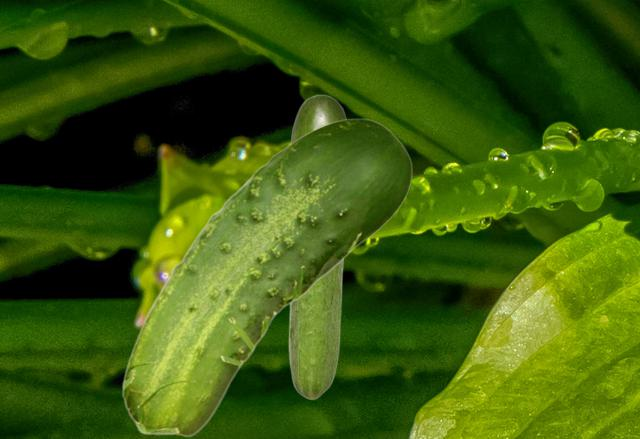cucumber: (121, 118, 411, 436), (288, 94, 346, 399)
